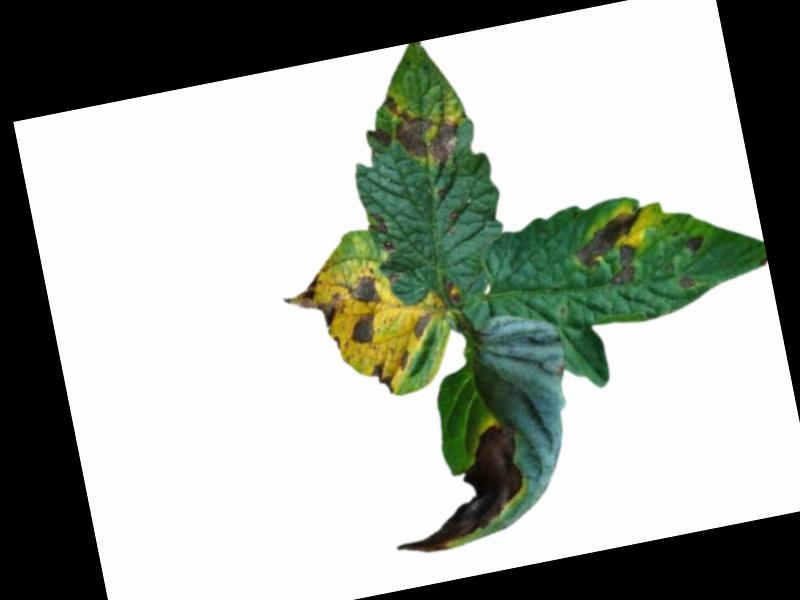Early_blight: (376, 421, 535, 559), (381, 83, 465, 176), (568, 206, 654, 294), (274, 269, 350, 336), (346, 272, 384, 310), (344, 310, 380, 349), (369, 212, 397, 257), (368, 362, 398, 398), (409, 312, 436, 342), (364, 124, 392, 152), (683, 232, 706, 256), (395, 350, 411, 374), (444, 280, 460, 304), (677, 277, 695, 290)
